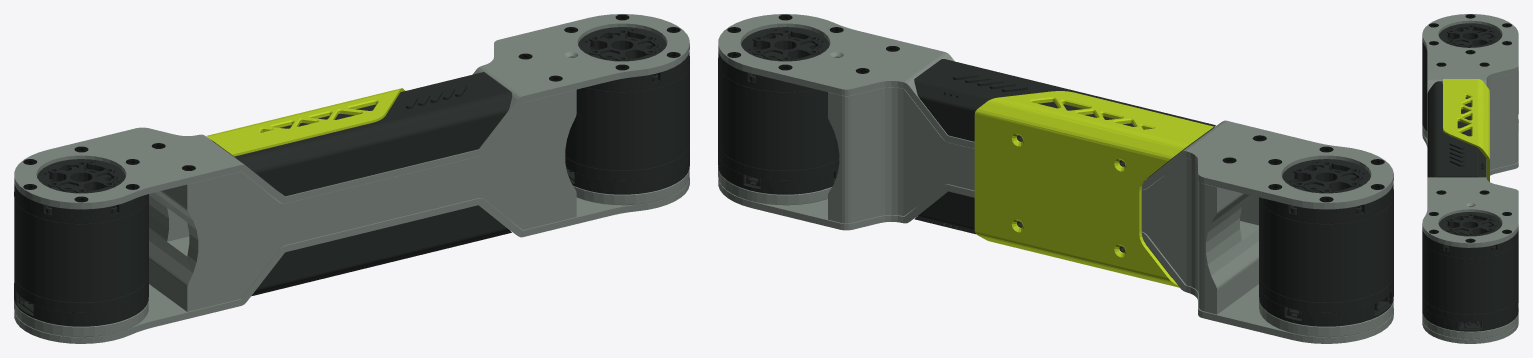
Rendered from colored_link2.dae.
The picture shows the model from 3 angles, left to right: view 1: azimuth 30°, elevation 25°; view 2: azimuth 150°, elevation 25°; view 3: azimuth 270°, elevation 25°; orthographic projection. The views are drawn at different scales.
Parts seen in each view (by area): view 1: link2; view 2: link2; view 3: link2.
Boxes of the visible parts, bbox=[...] form: link2: bbox=[14, 14, 689, 343]; link2: bbox=[718, 14, 1393, 343]; link2: bbox=[1422, 14, 1518, 343].
Bounding box in the file's own units: 0.321 × 0.057 × 0.0674.
